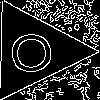O: (9, 25, 54, 72)
